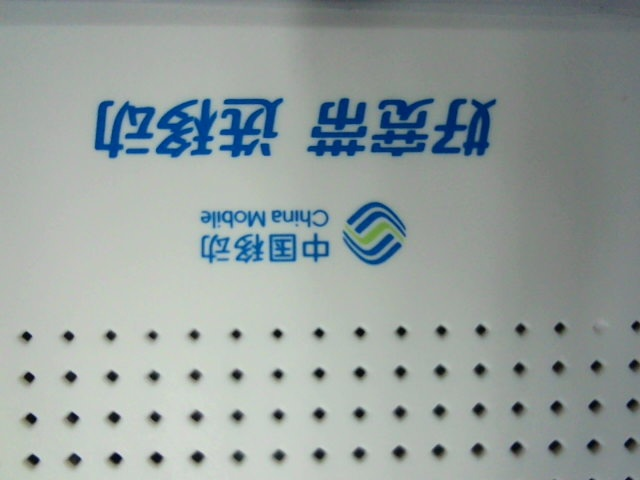AA_ChinaMoble: (79, 87, 495, 268)
